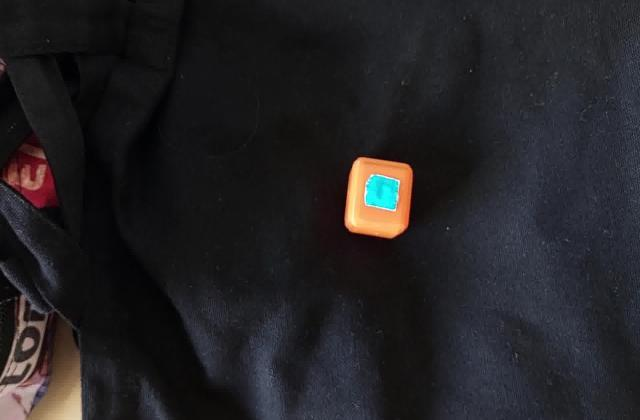blue: (374, 181, 396, 205)
sticker: (340, 154, 415, 242)
